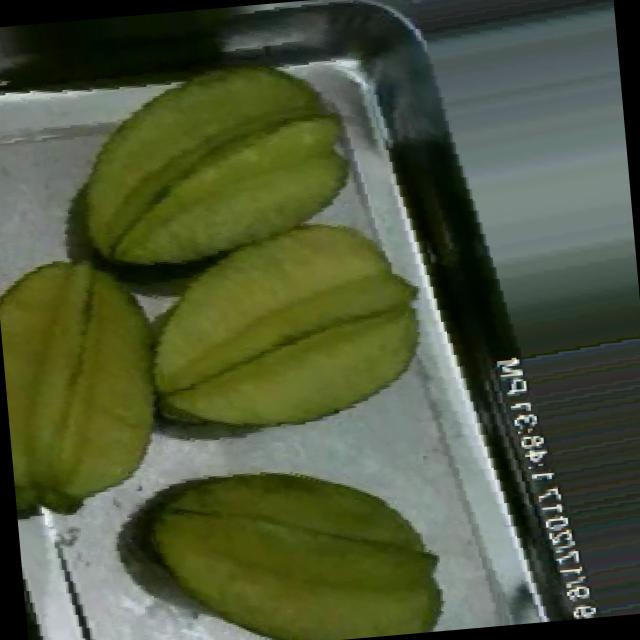fruit: (100, 160, 454, 492), (45, 29, 383, 302), (111, 405, 467, 640), (0, 232, 201, 541)
